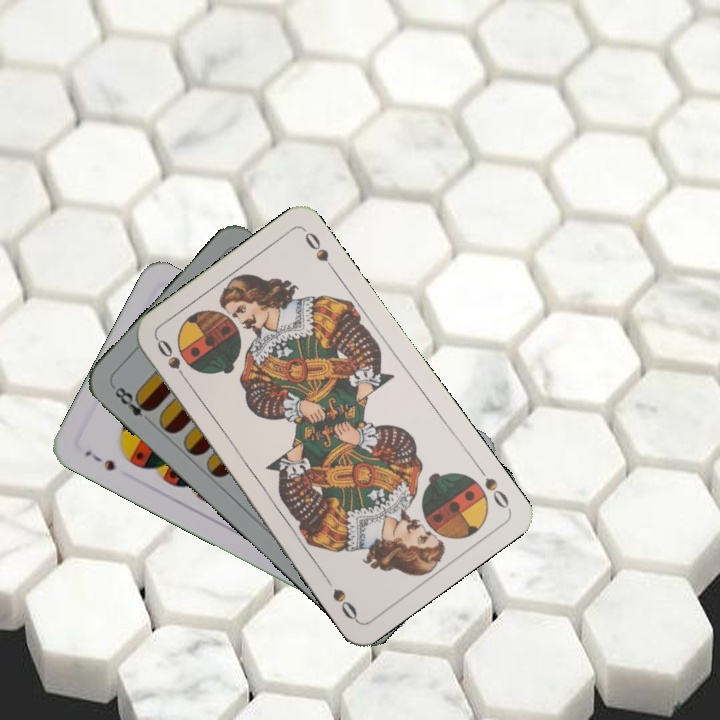E8: (109, 382, 156, 427)
S7: (81, 446, 118, 474)
SO: (152, 335, 192, 387), (472, 461, 512, 511)
